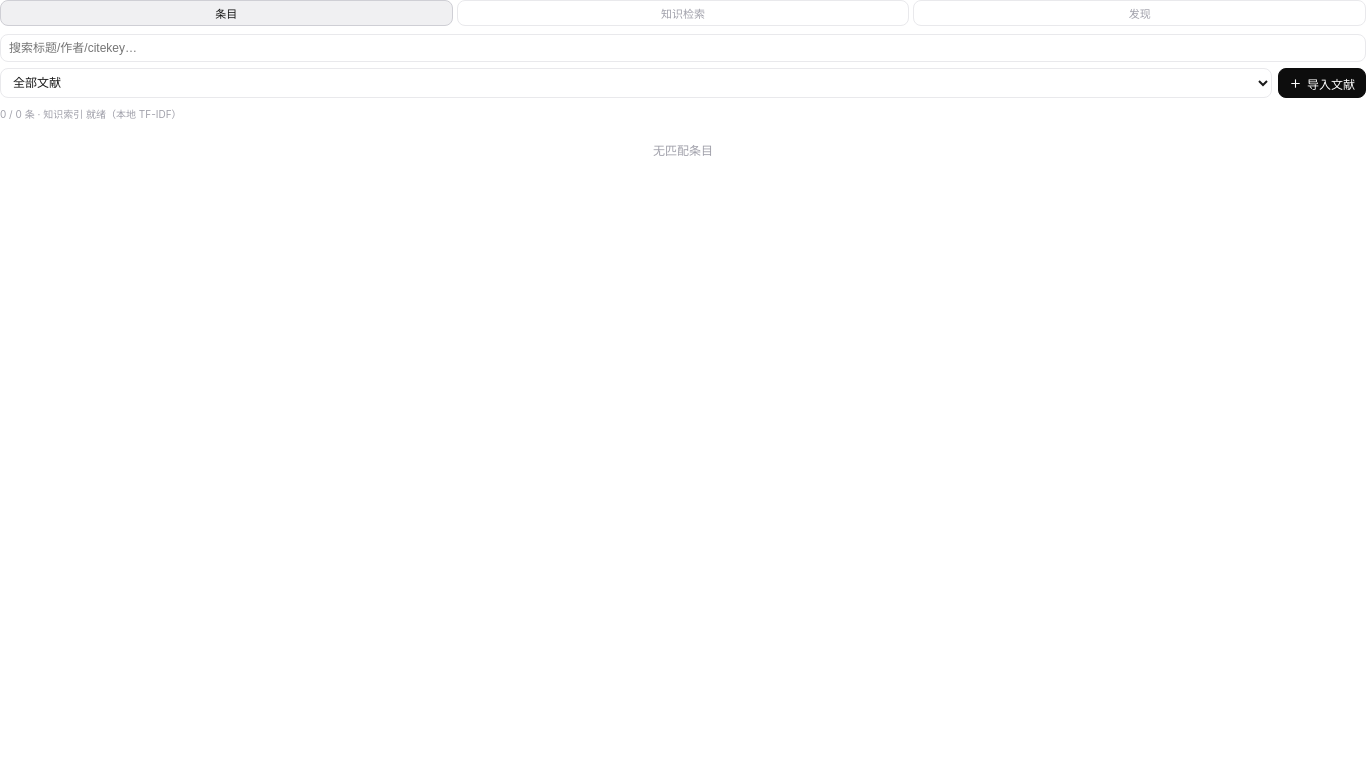
Test: LibraryPanel · Bib 清理向导 › 确认写入 → 先快照后更新 refs.bib（去重结果落盘），提示文献库条目不受影响
Click the button "导入文献" at {"x": 1322, "y": 83}, box [1278,68,1365,98]
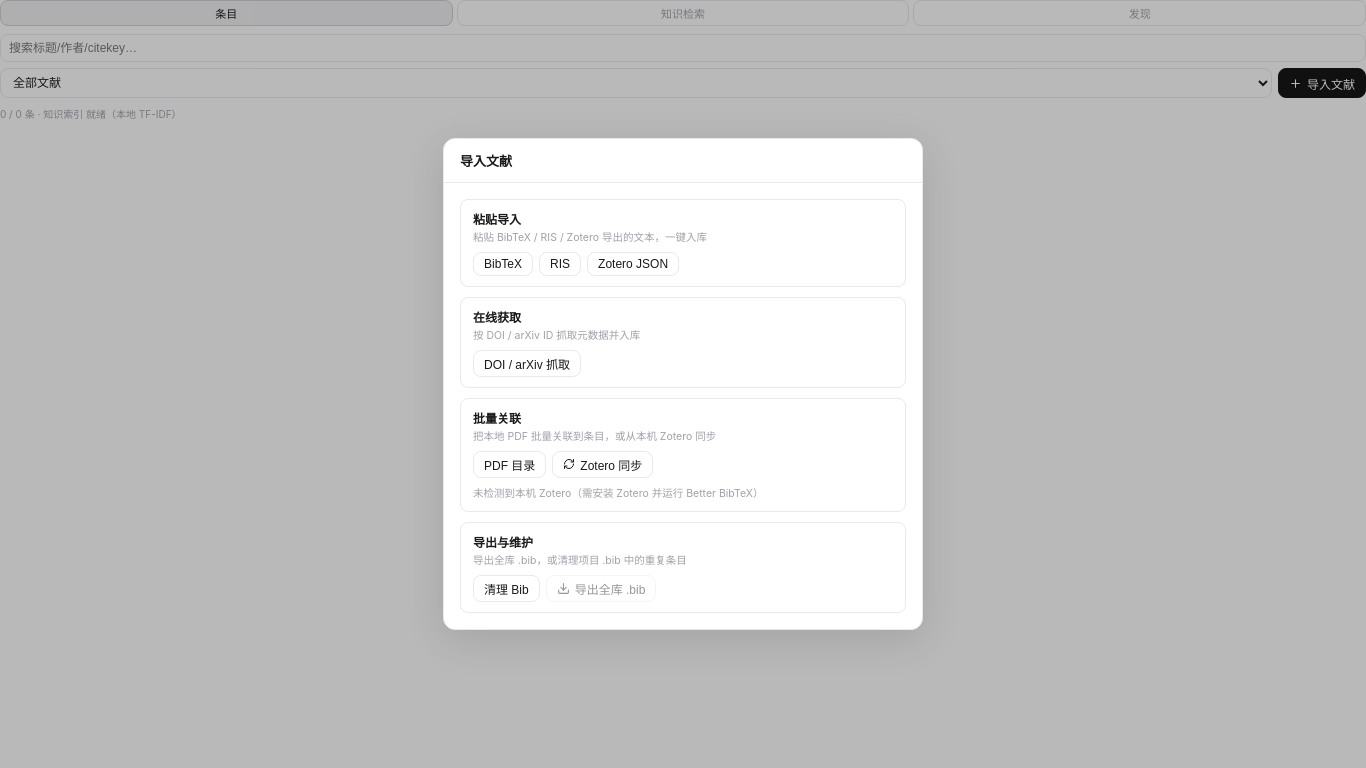
Click the button "清理 Bib" at {"x": 506, "y": 589}, box [473,575,540,602]
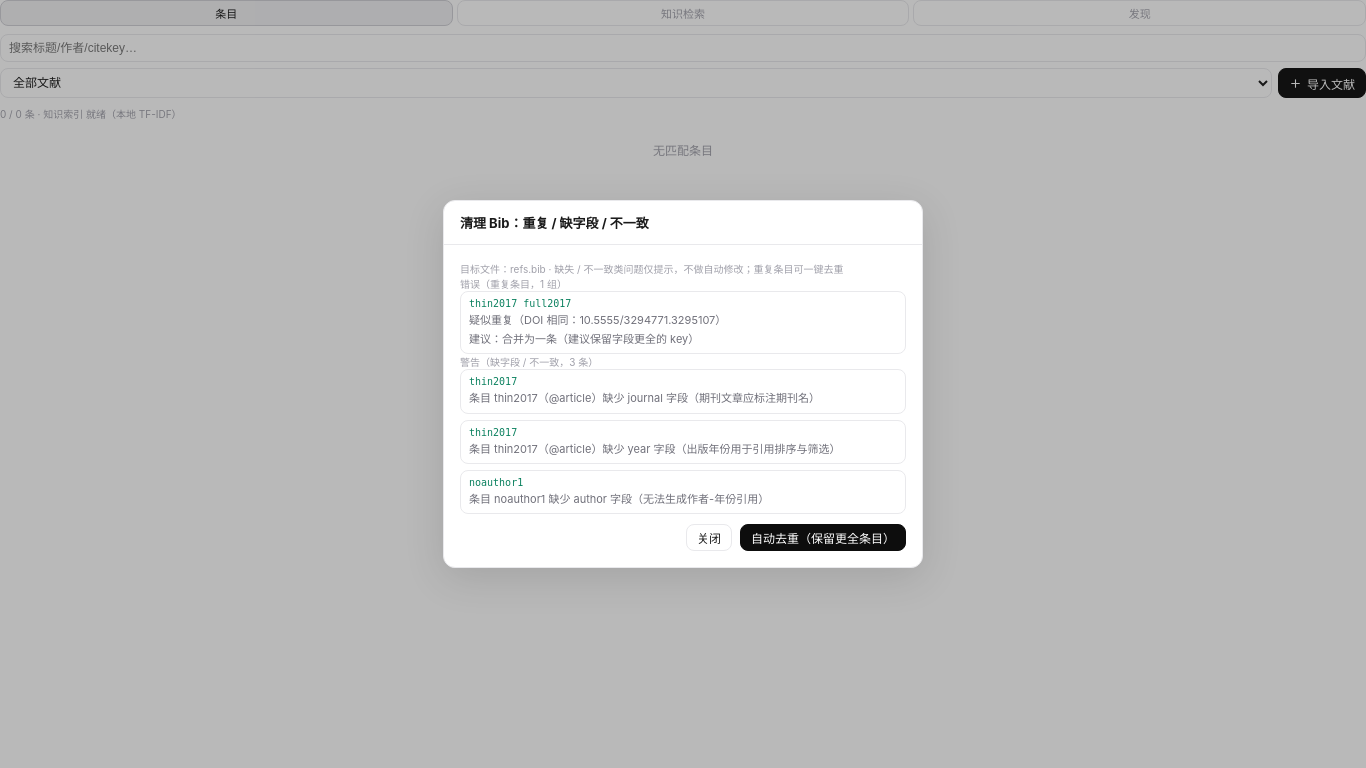
Expected: the element with class "sf-lib-dialog" is shown, [443,200,923,568]
Click the button "自动去重（保留更全条目）" at {"x": 823, "y": 538}, box [740,524,906,552]
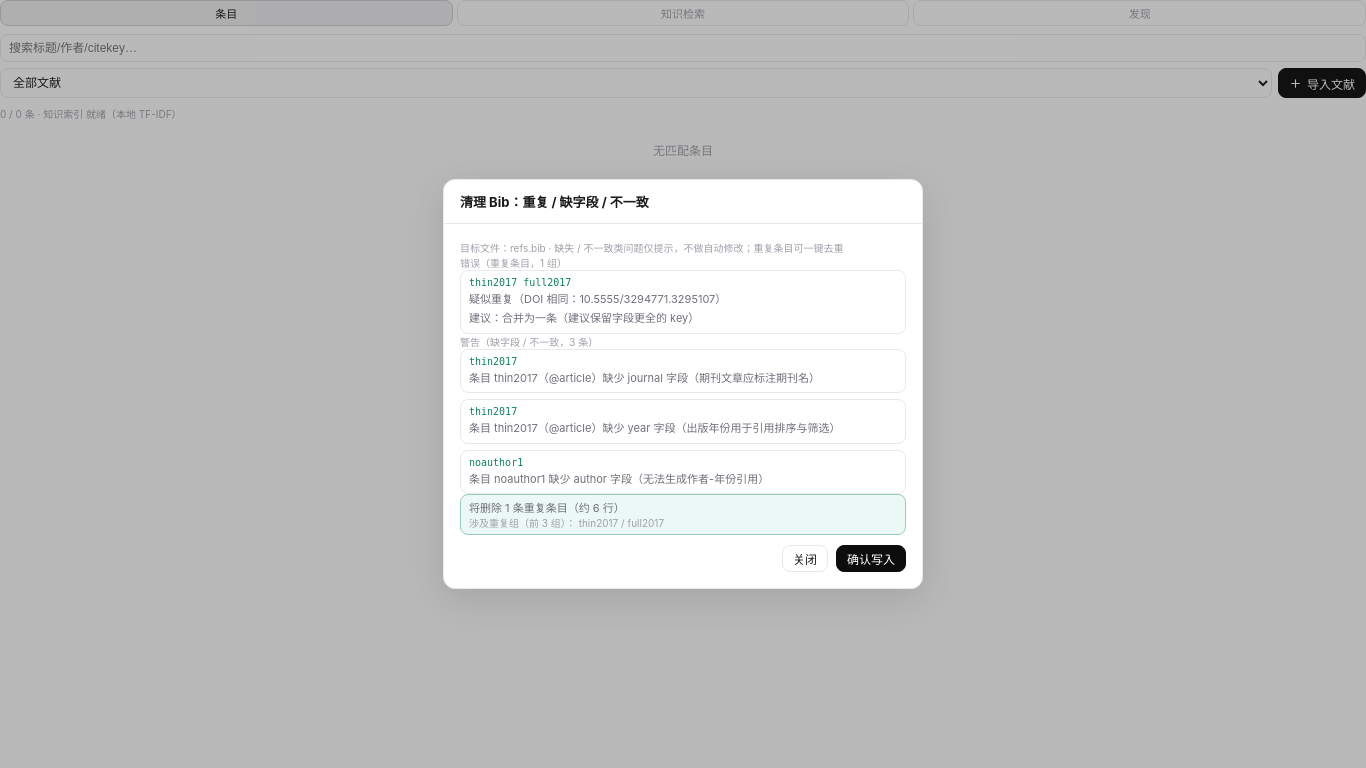
Click the button "确认写入" at {"x": 871, "y": 558}, box [836,545,906,572]
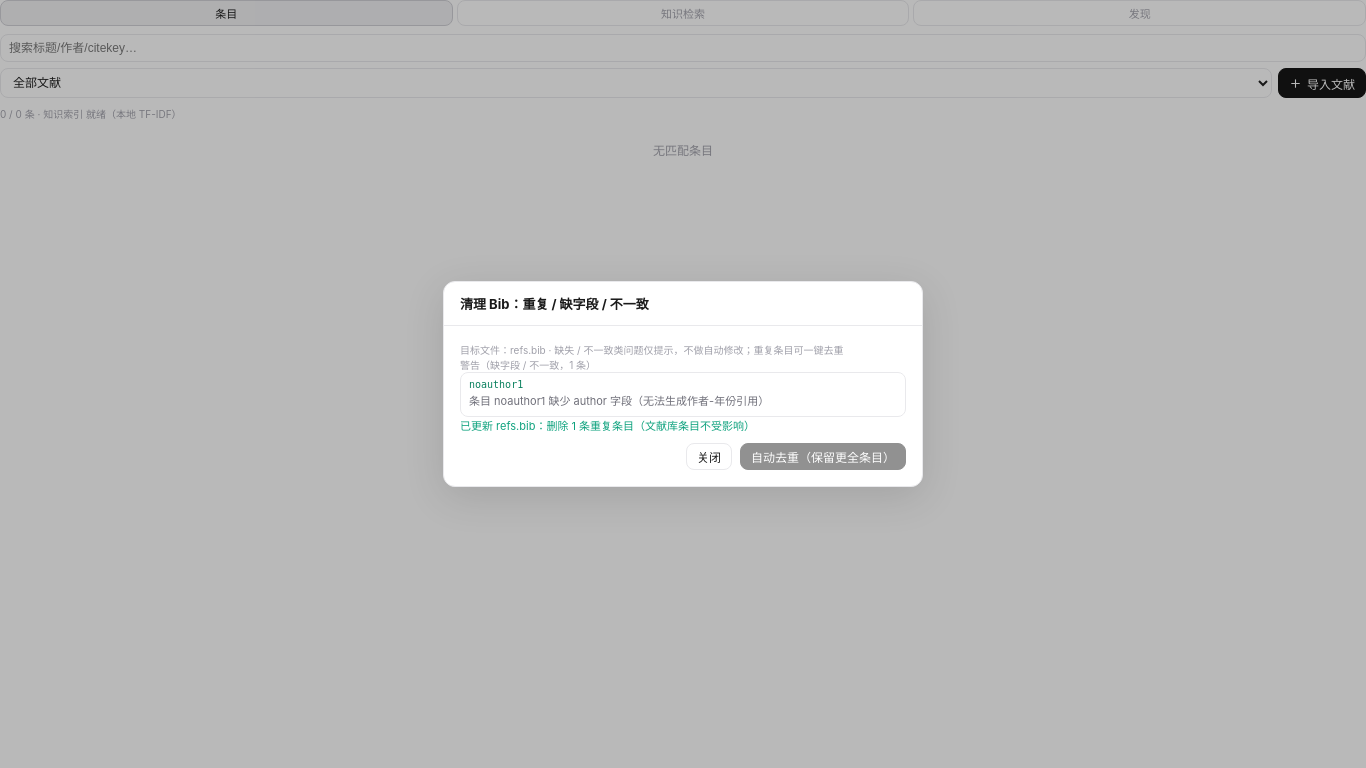
Expected: the text with class "sf-cites-msg" reads "已更新 refs.bib：删除 1 条重复条目（文献库条目不受影响）", [460,419,755,433]
Expected: the element with class "sf-lib-dialog" shows "警告（缺字段 / 不一致，1 条）", [460,359,596,371]
Expected: the text with class "sf-lib-dialog" no longer shows "错误（重复条目"
